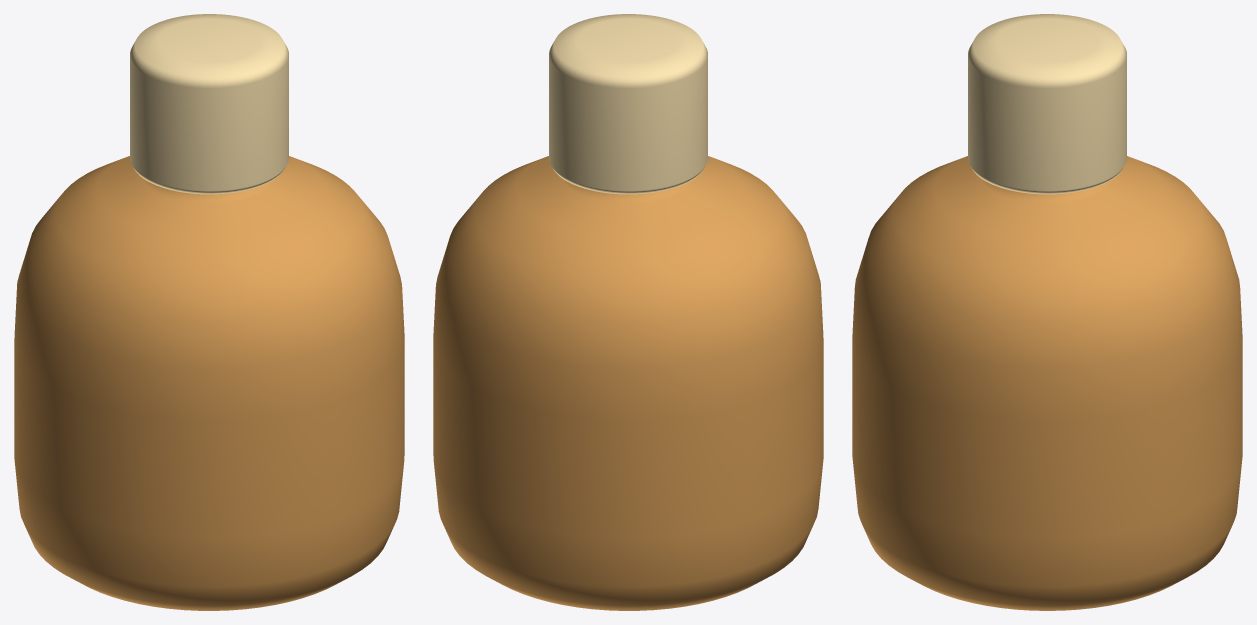
File: bottle.glb
3 views of the same model, side by side, from view 1: azimuth 30°, elevation 25°; view 2: azimuth 150°, elevation 25°; view 3: azimuth 270°, elevation 25° (orthographic).
Parts seen in each view (by area): view 1: Body, Cap; view 2: Body, Cap; view 3: Body, Cap.
Boxes of the visible parts, box(x1,y1,x2,y2) form: Body: box(14, 156, 404, 610); Cap: box(130, 14, 288, 194); Body: box(433, 156, 823, 610); Cap: box(549, 14, 707, 194); Body: box(852, 156, 1242, 610); Cap: box(968, 14, 1126, 194).
Size of the model in its own units: 1.52 by 2.18 by 1.52.
